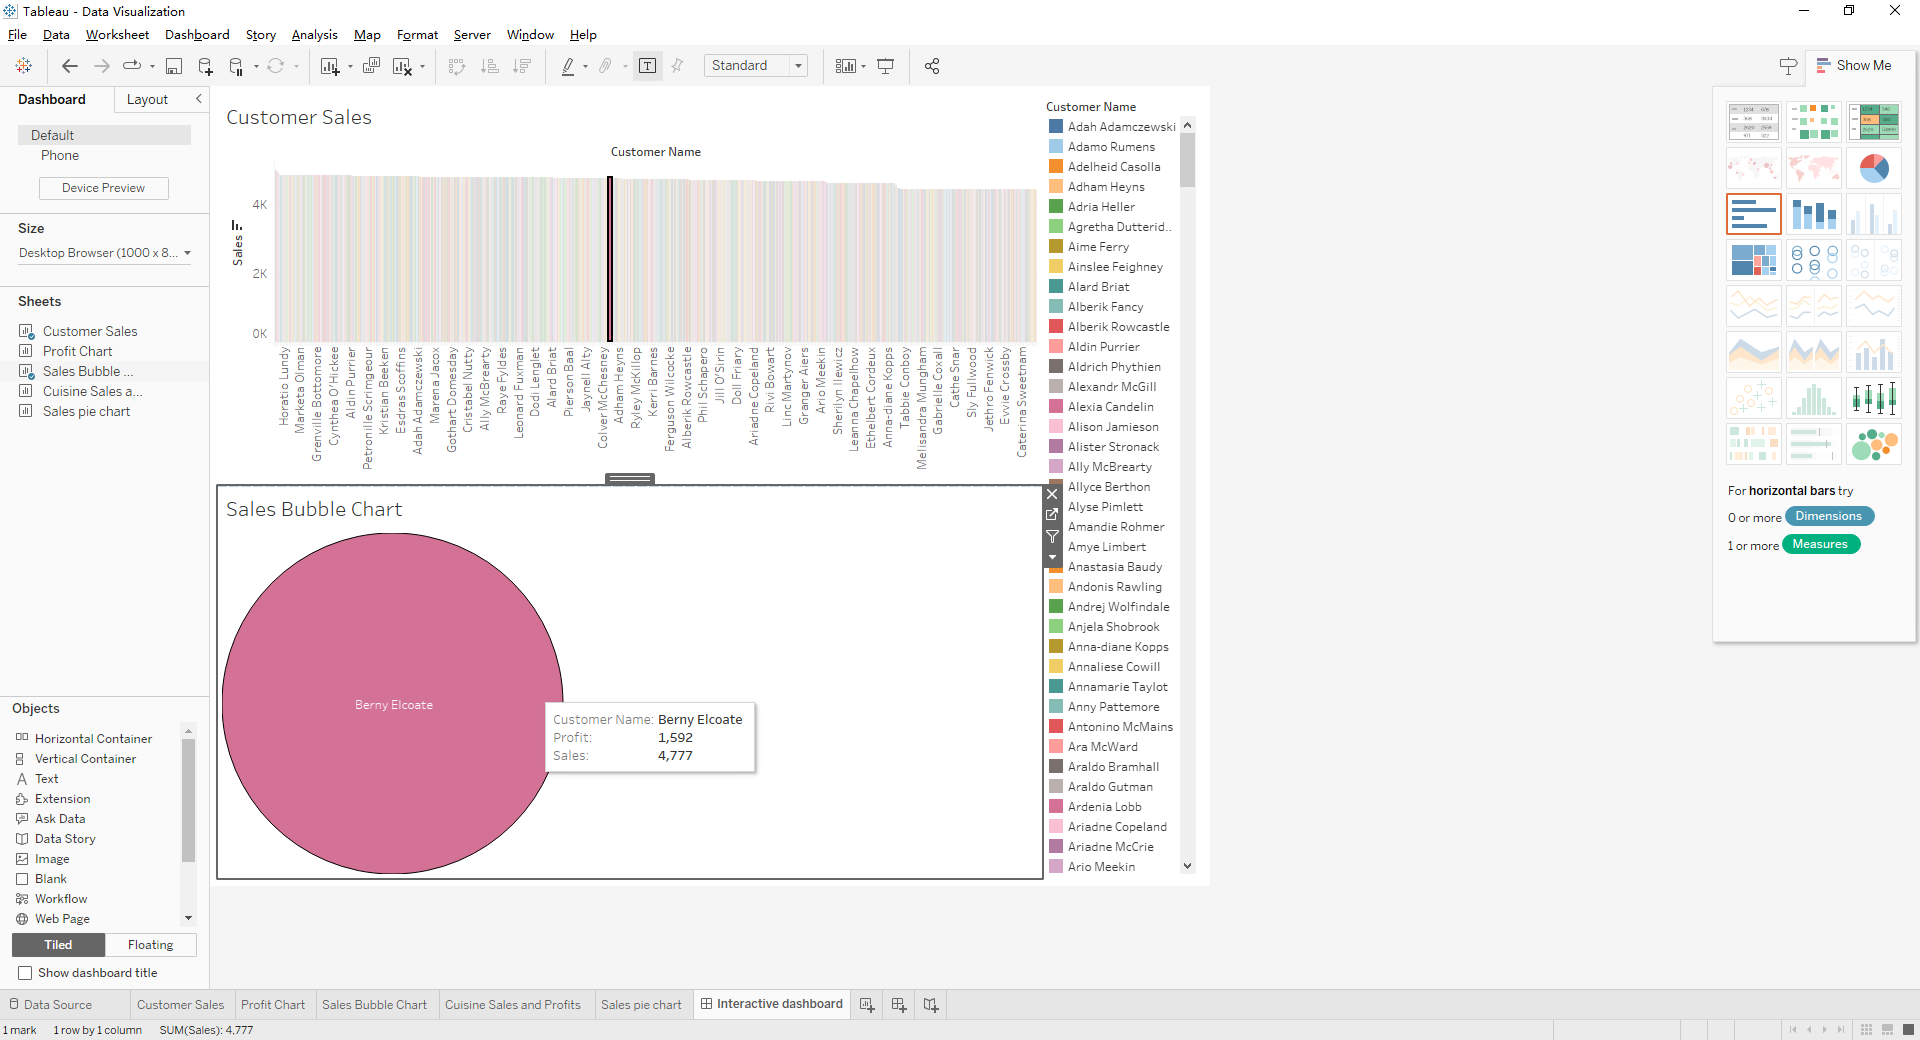

This screenshot's page, from the dashboard's own definition file:
{"tool":"tableau","page":{"name":"Interactive dashboard","canvas":[1000,800],"ordinal":0},"visuals":[{"type":"worksheet","title":"Customer Sales","mark":"Automatic","rows":["Sales"],"cols":["Customer Name"],"box":[8,8,824,392]},{"type":"legend","title":"Customer Sales","param":"[federated.1v5iuo51qpkty211cwbls1juf92e].[none:Customer Name:nk]","box":[832,8,160,784]},{"type":"worksheet","title":"Sales Bubble Chart","mark":"Circle","box":[8,400,824,392]}]}

Visuals, with their boxes on the page's 1000x800 design canvas (x1, y1, x2, y2). These are canvas units, not pixel positions in the 1920x1040 screenshot, which may show the page scaled, cropped or inside an application window:
"Customer Sales" worksheet: {"left": 8, "top": 8, "right": 832, "bottom": 400}
"Customer Sales" legend: {"left": 832, "top": 8, "right": 992, "bottom": 792}
"Sales Bubble Chart" worksheet (Circle marks): {"left": 8, "top": 400, "right": 832, "bottom": 792}
